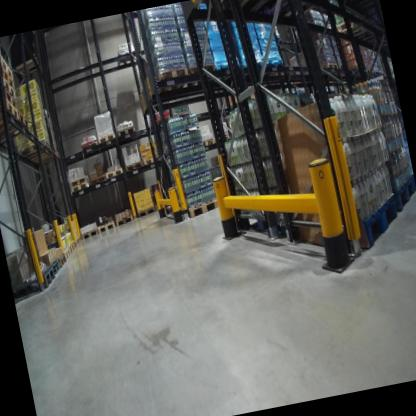pallet: (109, 44, 416, 219), (286, 189, 404, 265), (229, 197, 289, 250), (331, 4, 381, 42), (146, 61, 193, 99), (9, 266, 57, 301), (162, 196, 219, 225), (181, 58, 221, 97), (207, 54, 245, 93), (0, 108, 34, 147), (11, 51, 44, 81), (254, 61, 288, 87), (0, 98, 22, 138), (16, 138, 52, 158), (240, 60, 267, 82), (114, 121, 140, 143), (0, 85, 18, 113), (210, 130, 237, 148), (111, 213, 137, 231), (316, 60, 340, 79), (94, 131, 118, 150), (142, 152, 167, 170), (148, 113, 174, 130), (0, 51, 15, 80), (0, 75, 16, 99), (0, 64, 14, 91), (103, 164, 125, 181), (47, 256, 63, 279), (79, 227, 102, 241), (124, 157, 145, 172), (96, 219, 117, 234), (134, 205, 156, 219), (195, 135, 215, 150), (87, 172, 107, 187), (68, 175, 88, 187), (69, 180, 89, 192), (55, 252, 68, 270), (62, 246, 72, 261), (338, 62, 348, 73), (67, 241, 76, 253), (72, 238, 78, 249), (74, 236, 80, 244)
